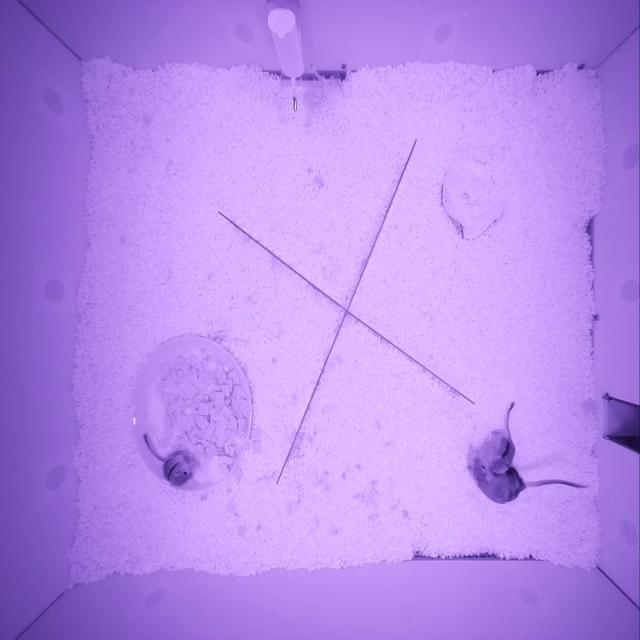adult_back: (474, 457, 527, 503)
pup_h_stripe: (162, 451, 195, 492)
pup_v_stripe: (488, 436, 515, 475)
